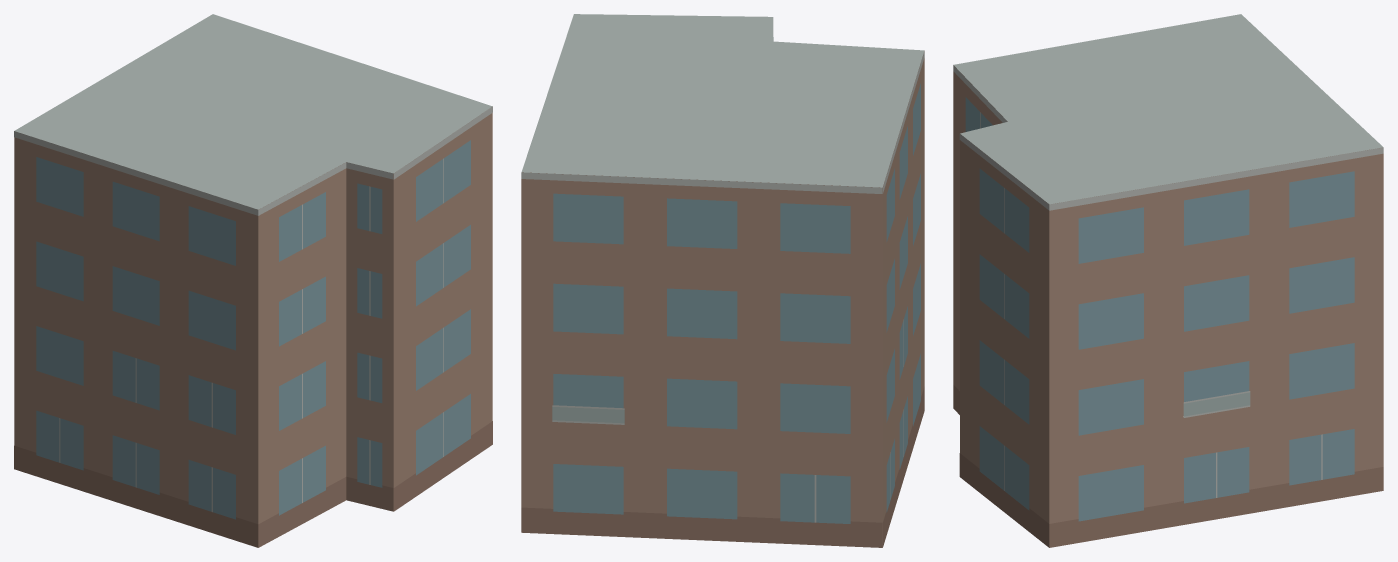
The model's file is survey-upis-32703448.glb.
The picture shows the model from 3 angles, left to right: view 1: azimuth 30°, elevation 25°; view 2: azimuth 150°, elevation 25°; view 3: azimuth 270°, elevation 25°; orthographic projection. The views are drawn at different scales.
Visible parts, largest first — view 1: survey-upis-32703448.tmp; view 2: survey-upis-32703448.tmp; view 3: survey-upis-32703448.tmp.
Part boxes in pixels (x1,y1,x2,y2): survey-upis-32703448.tmp: (14, 14, 492, 547); survey-upis-32703448.tmp: (521, 14, 924, 547); survey-upis-32703448.tmp: (953, 14, 1383, 547).
Bounding box in the file's own units: 15.82 × 13.3 × 15.11.
